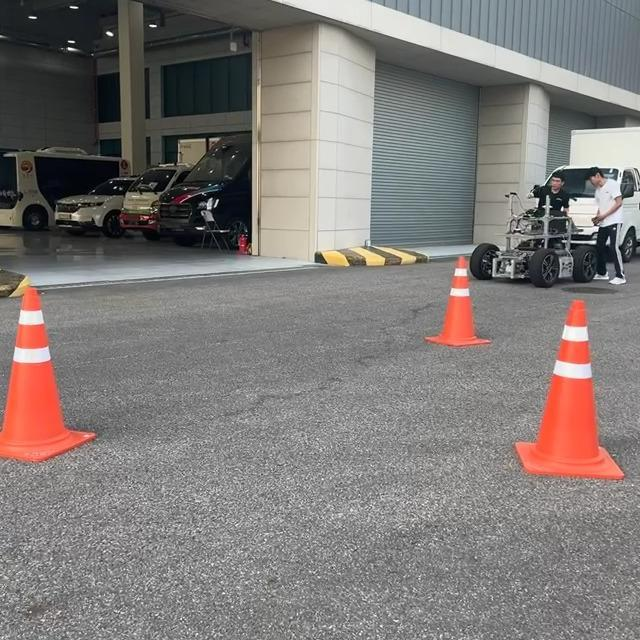fallen_object: (521, 293, 633, 457), (17, 278, 84, 468), (403, 242, 483, 364)
